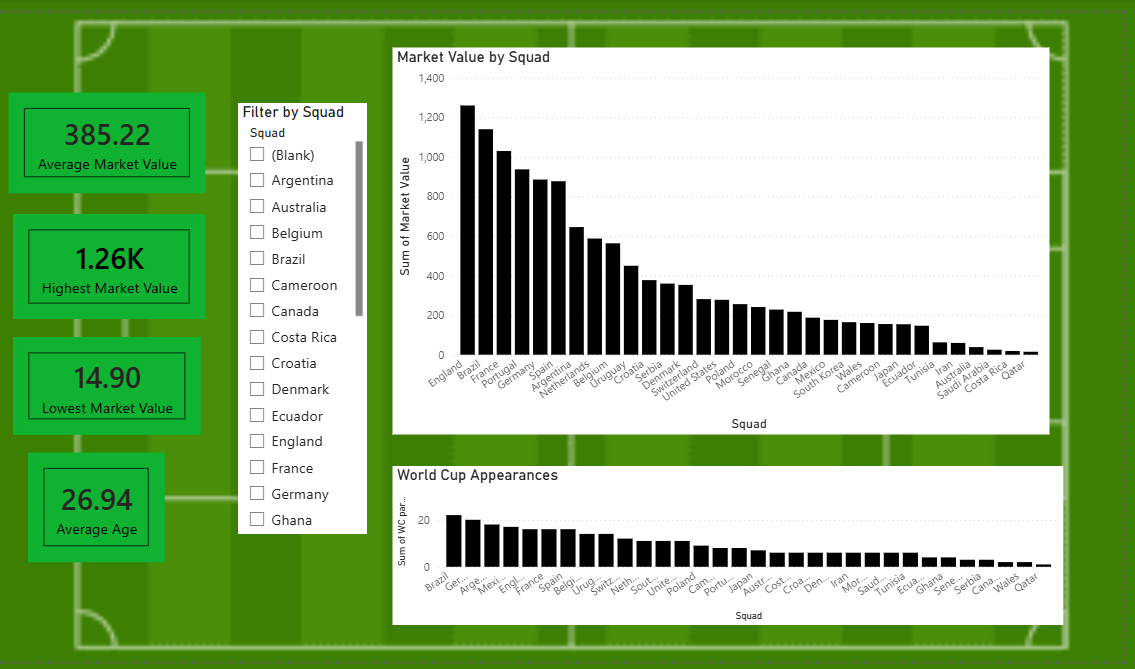

The page's visual inventory and layout, read from the dashboard file:
{"tool":"powerbi","page":{"name":"Market Value Analysis","canvas":[1280,720],"ordinal":4},"visuals":[{"type":"cardVisual","fields":{"Data":["Unique Champions.Highest Market Value"]},"box":[46.7,223.3,213.3,116.7],"z":0},{"type":"cardVisual","fields":{"Data":["Unique Champions.Average Market Value"]},"box":[41.7,88.3,218.3,111.7],"z":1000},{"type":"cardVisual","fields":{"Data":["Unique Champions.Lowest Market Value"]},"box":[46.7,360,208.3,108.3],"z":2000},{"type":"cardVisual","fields":{"Data":["Unique Champions.Average Age"]},"box":[63.3,488.3,151.7,121.7],"z":3000},{"type":"clusteredColumnChart","title":"Market Value by Squad","fields":{"Category":["WC_2022_market.Squad"],"Y":["Sum(WC_2022_market.Market Value)"]},"box":[468.3,38.3,730,430],"z":4000},{"type":"clusteredColumnChart","title":"World Cup Appearances","fields":{"Category":["WC_2022_market.Squad"],"Y":["Sum(WC_2022_market.WC particip.)"]},"box":[468.3,503.3,745,176.7],"z":6000},{"type":"slicer","title":"Filter by Squad","fields":{"Values":["WC_2022_market.Squad"]},"box":[296.7,100,143.3,478.3],"z":7000}]}

Visuals, with their boxes on the page's 1280x720 design canvas (x1, y1, x2, y2). These are canvas units, not pixel positions in the 1135x669 screenshot, which may show the page scaled, cropped or inside an application window:
cardVisual - Unique Champions.Highest Market Value: bbox=(47, 223, 260, 340)
cardVisual - Unique Champions.Average Market Value: bbox=(42, 88, 260, 200)
cardVisual - Unique Champions.Lowest Market Value: bbox=(47, 360, 255, 468)
cardVisual - Unique Champions.Average Age: bbox=(63, 488, 215, 610)
"Market Value by Squad" clusteredColumnChart: bbox=(468, 38, 1198, 468)
"World Cup Appearances" clusteredColumnChart: bbox=(468, 503, 1213, 680)
"Filter by Squad" slicer: bbox=(297, 100, 440, 578)
